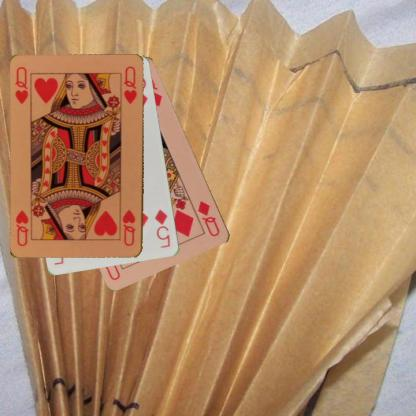5d: (152, 207, 172, 250)
Qd: (196, 198, 222, 238)
Qh: (120, 207, 138, 248), (12, 64, 30, 105)
